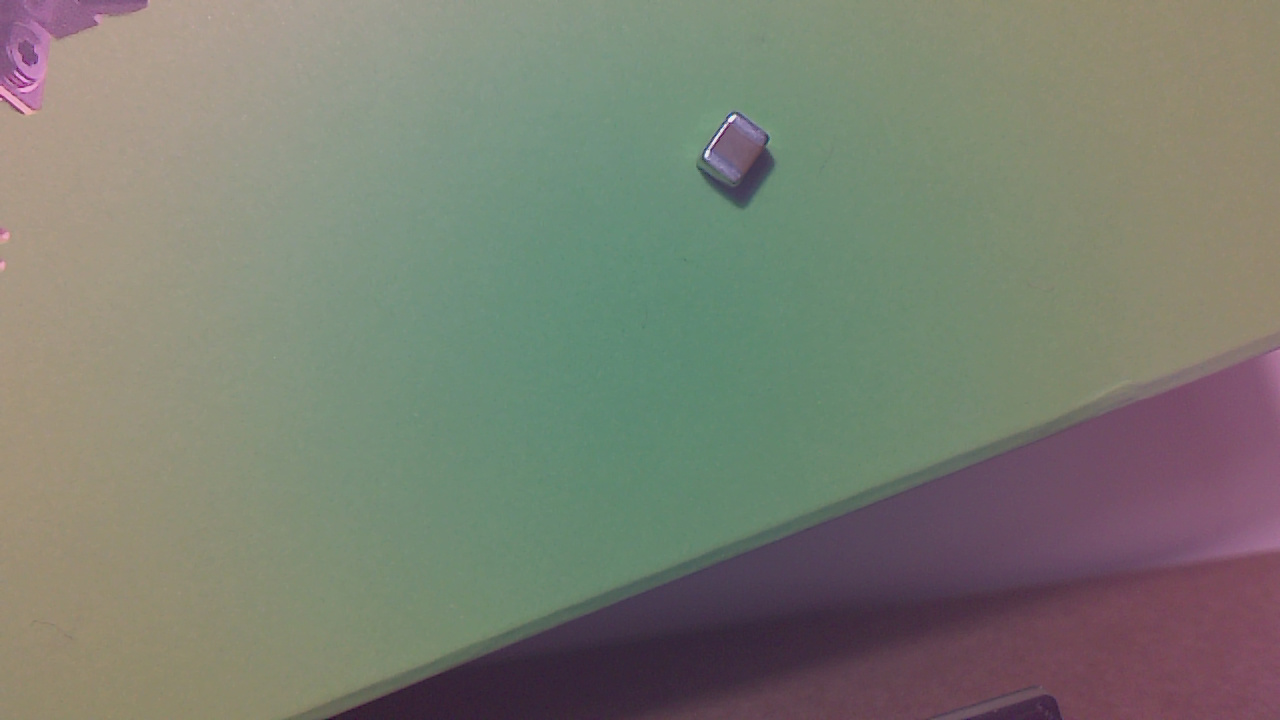Condensator: (698, 115, 778, 197)
